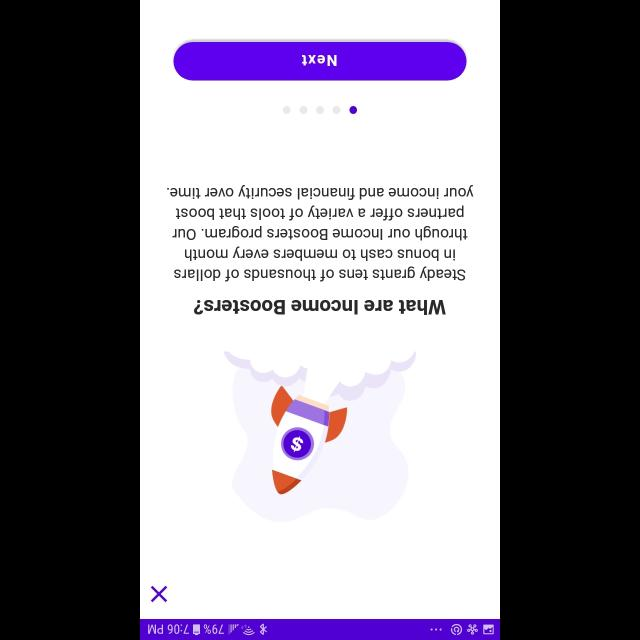icon: (150, 586, 168, 602)
image: (223, 350, 415, 522)
pageindicator: (283, 106, 357, 114)
text: (166, 185, 474, 282), (194, 299, 446, 315)
textbutton: (174, 41, 466, 80)
uppertaskbar: (140, 618, 500, 640)
